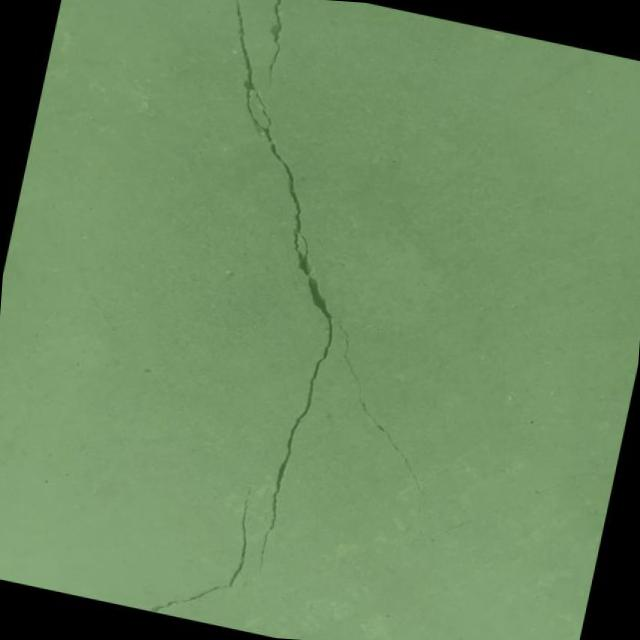crack: (118, 0, 525, 582), (146, 492, 256, 630), (257, 0, 292, 90), (430, 512, 474, 551), (403, 503, 432, 552), (242, 485, 253, 508)
